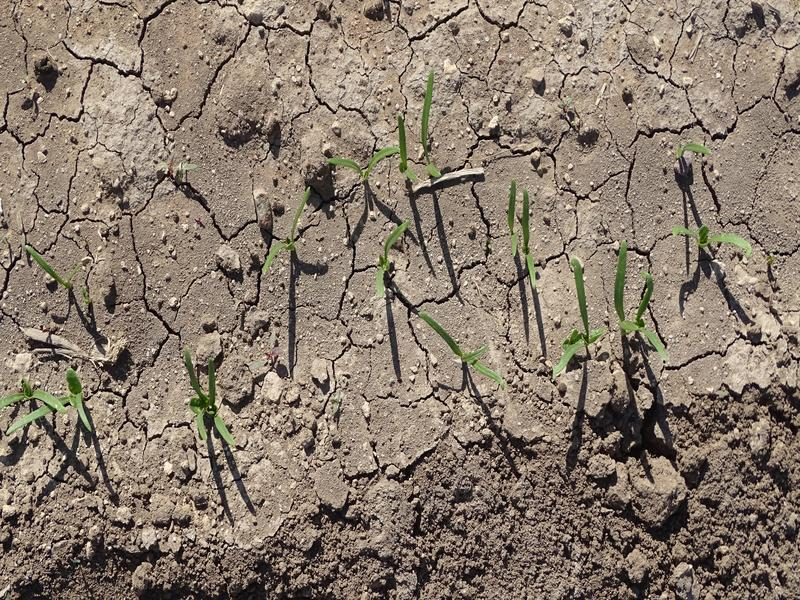Espinaca: (609, 246, 672, 356), (171, 355, 237, 444), (425, 310, 504, 384), (11, 366, 96, 429), (554, 258, 592, 375), (261, 188, 314, 266), (506, 182, 541, 288), (671, 219, 764, 257), (420, 76, 446, 179), (375, 224, 410, 298), (336, 142, 398, 180), (398, 116, 416, 184), (676, 139, 714, 161)
